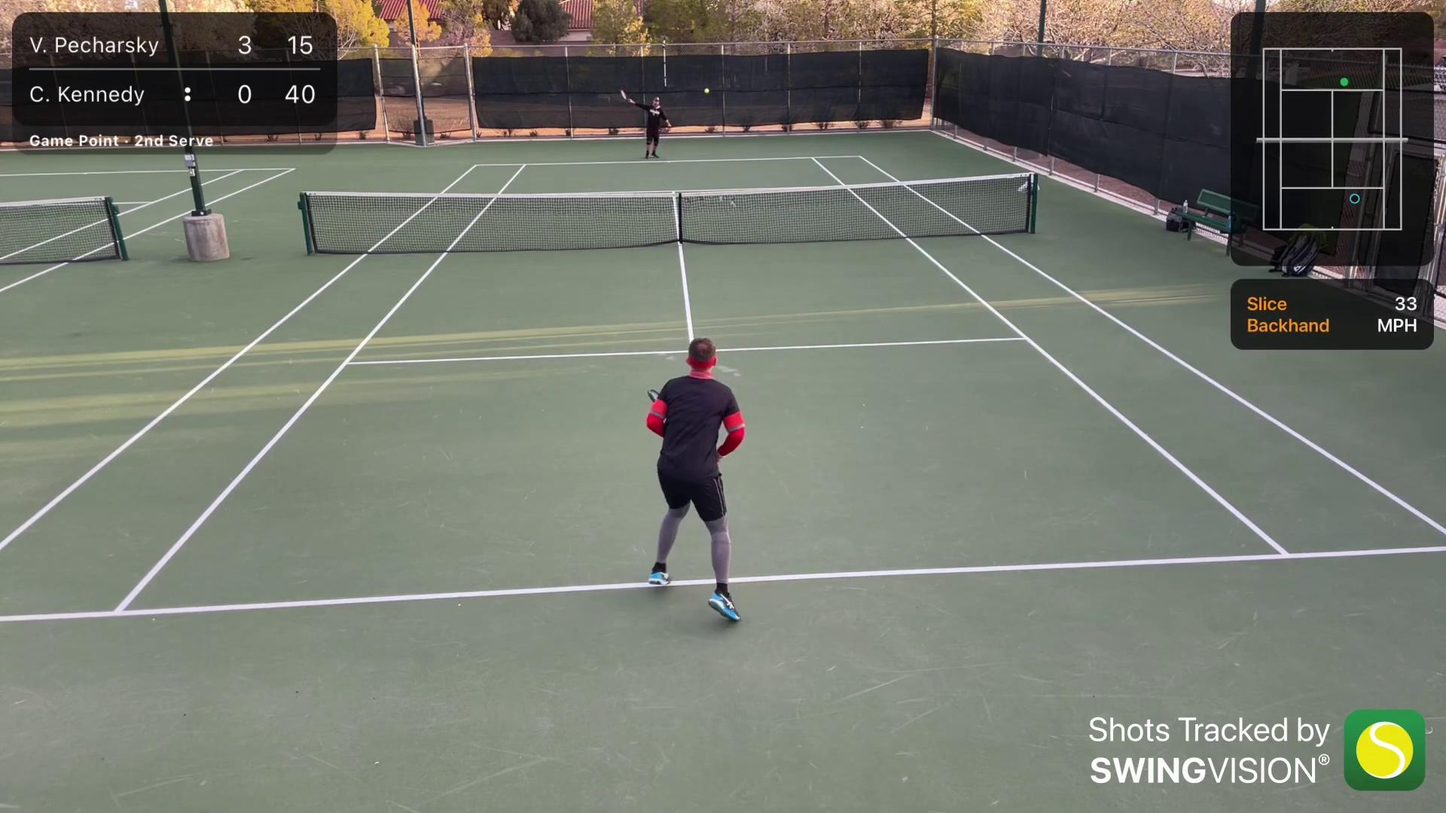ball: (703, 87, 710, 95)
